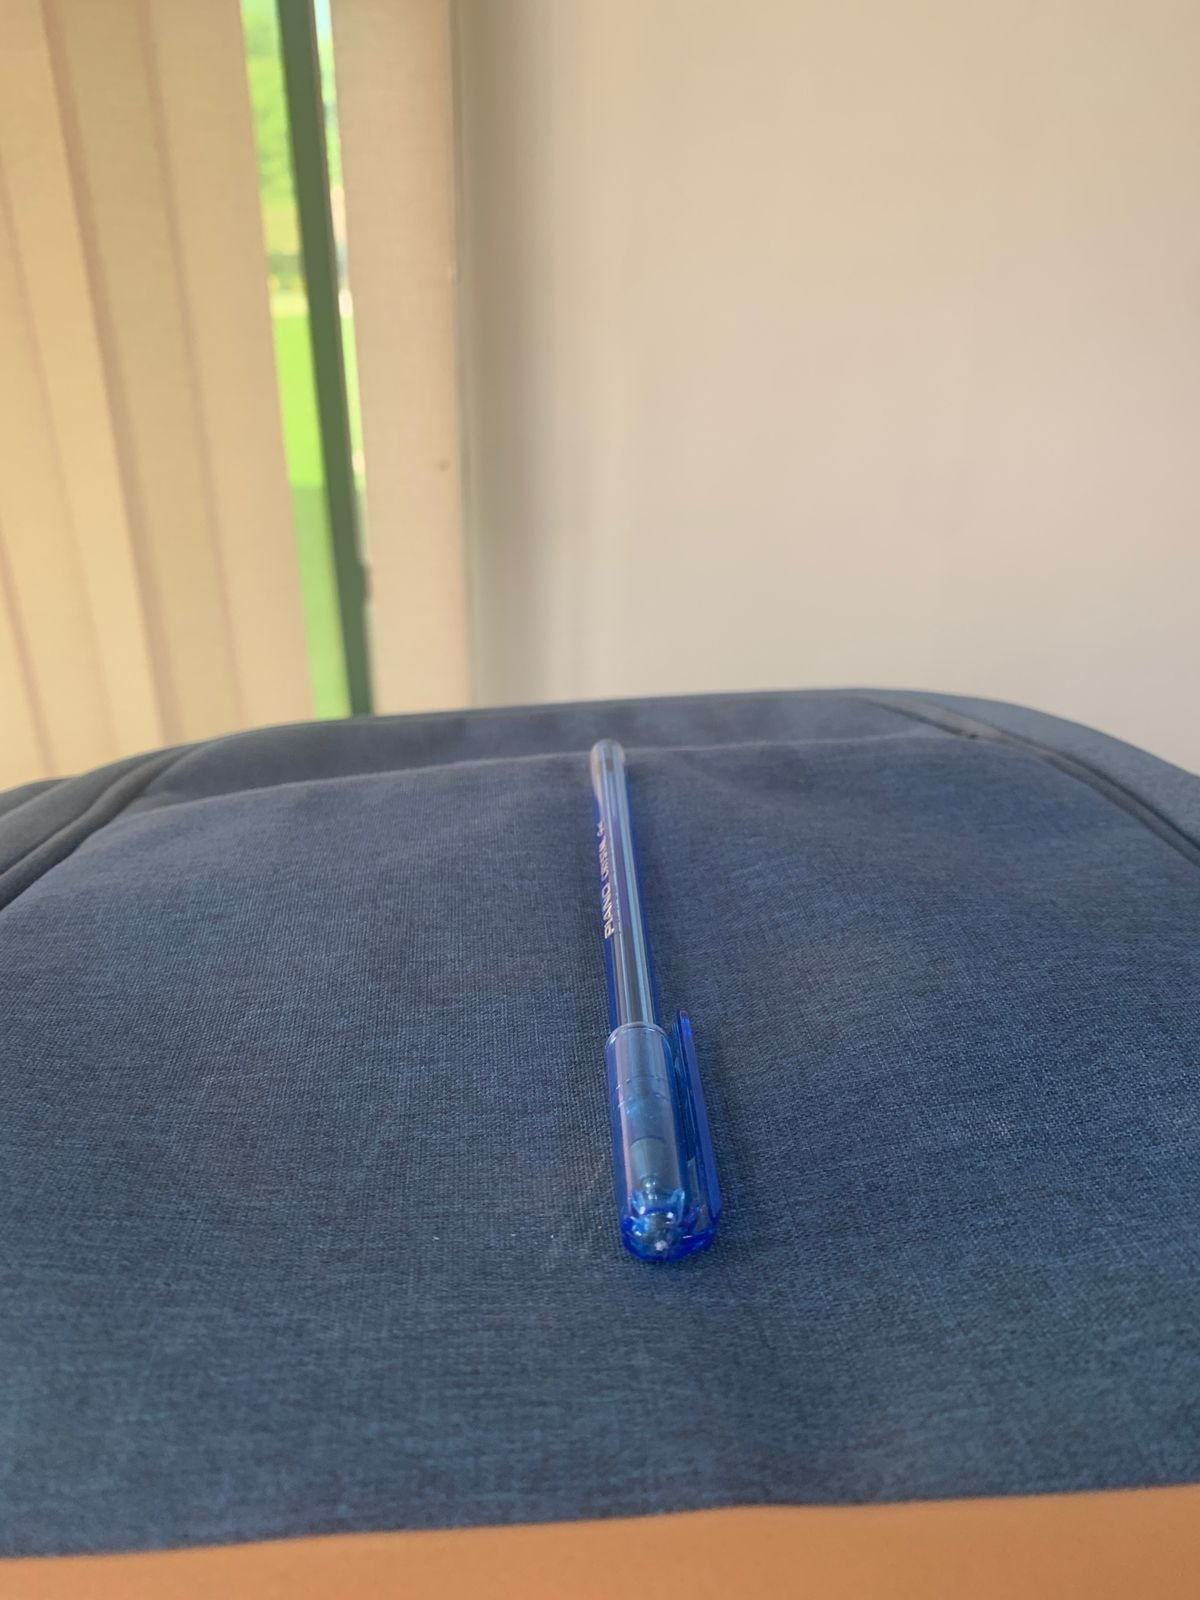pen: (471, 695, 795, 1414)
